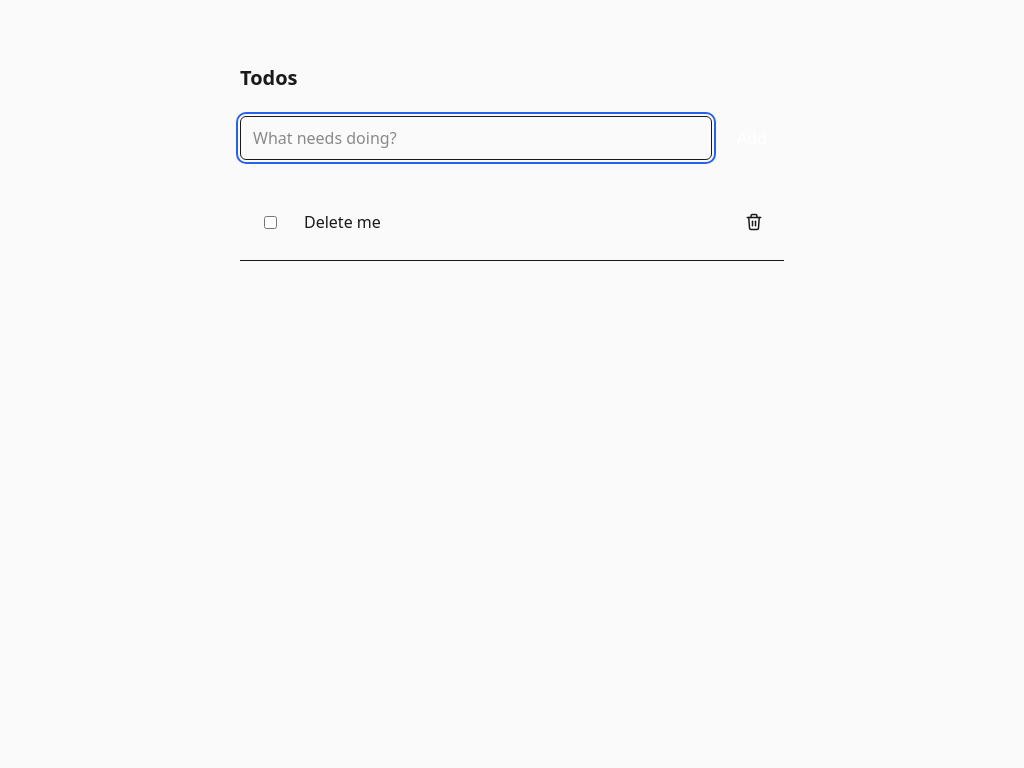
Scenario: <App /> integration — full tree with mocked fetch › delete failure → Cancel in error state closes modal without firing another DELETE (AC9)
This screenshot has width=1024, height=768.
Expected: the text "Delete me" is shown, [304,211,381,233]
What coordinates should you click on to do the following:
click the button named "Delete todo: Delete me"
I would click on:
 (754, 222)
Its box is [732,200,776,244].
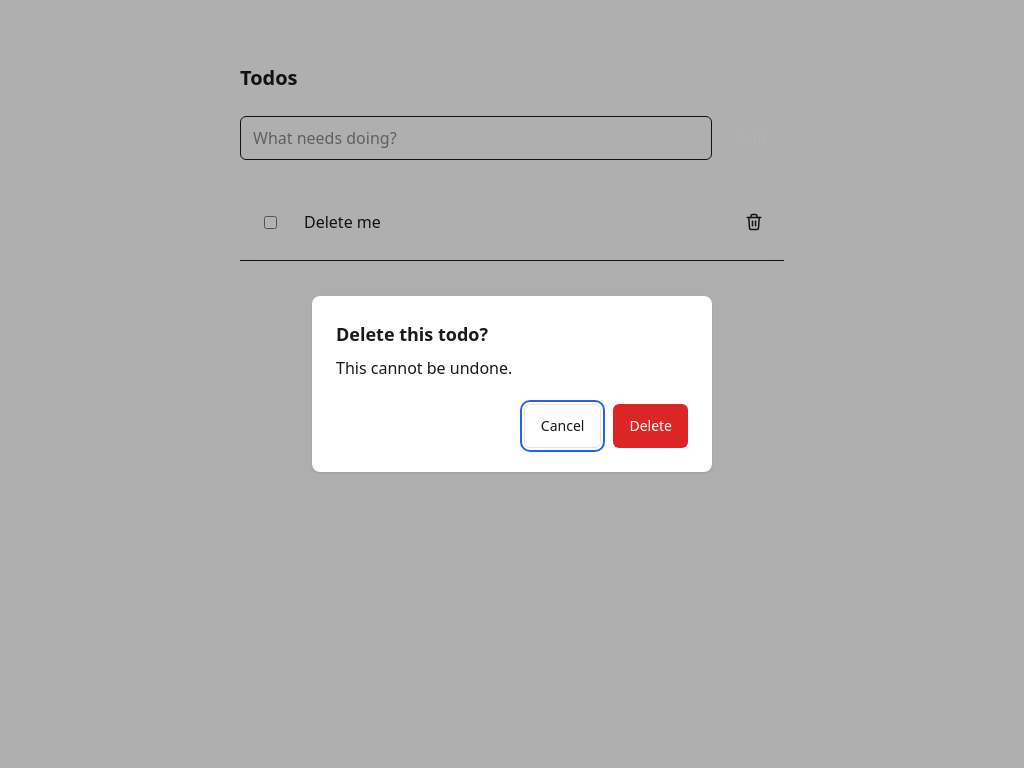
What coordinates should you click on to do the following:
click the button "Delete"
I would click on:
 (651, 426)
Its box is [613,404,688,448].
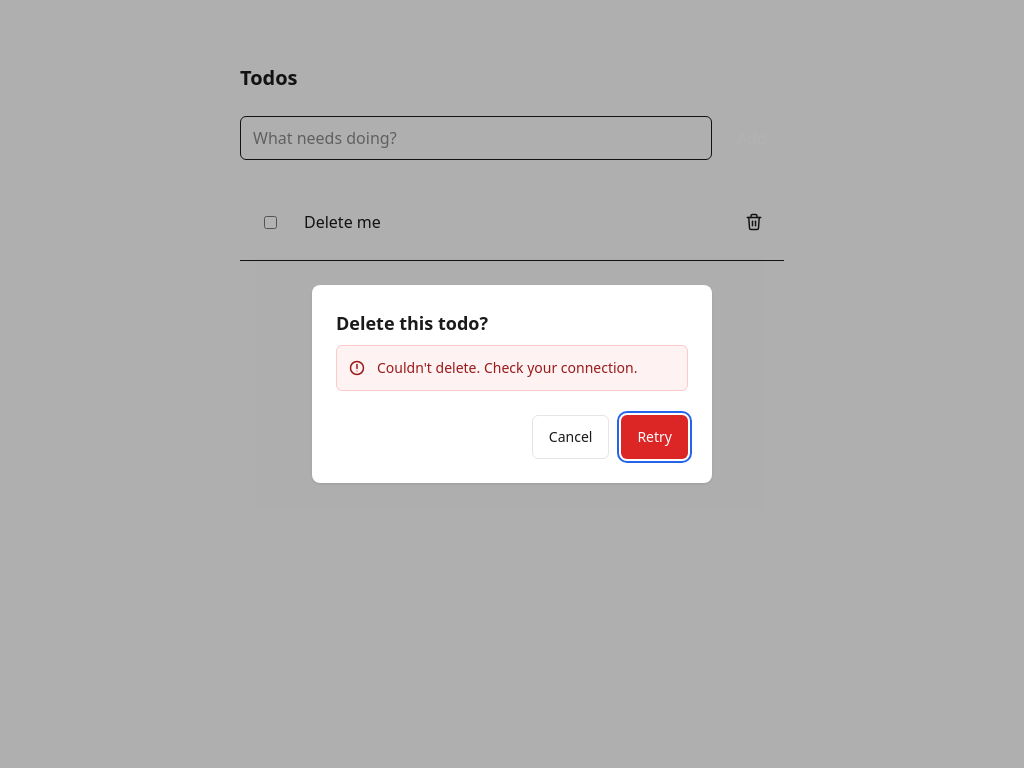
Result: the message "Couldn't delete. Check your connection." is shown at [336,345,688,391]
What coordinates should you click on to do the following:
click the button "Cancel"
I would click on:
 (571, 437)
Its box is [532,415,609,459].
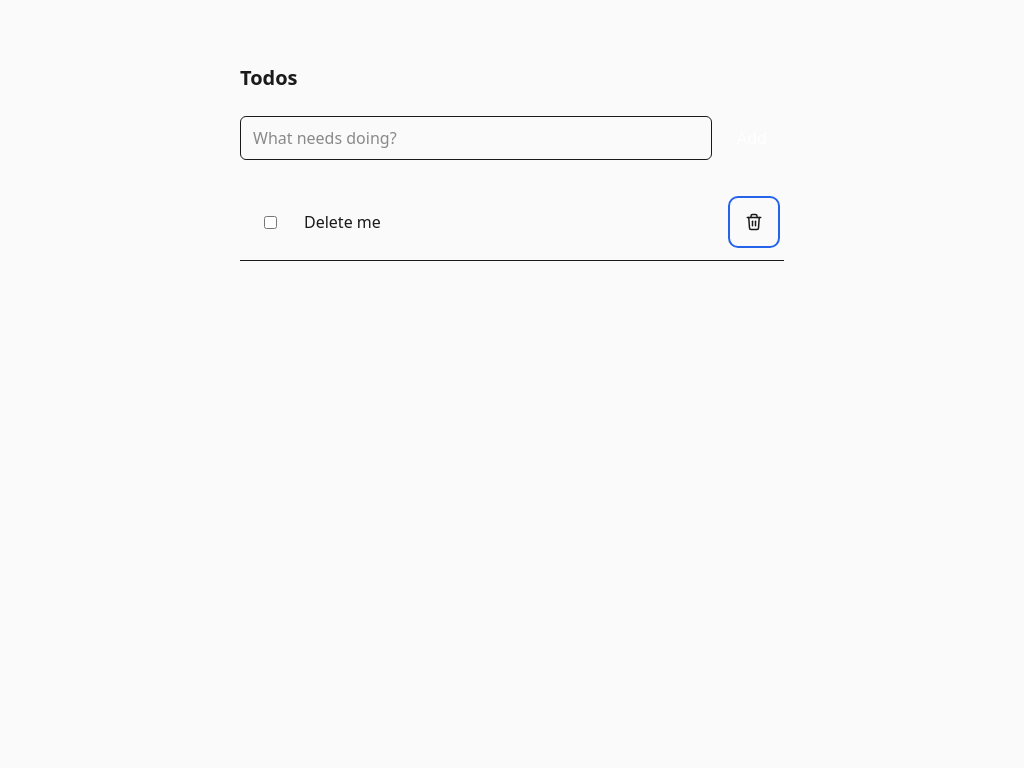
Expected: the text "Delete me" is shown, [304,211,381,233]
Result: the dialog is gone
